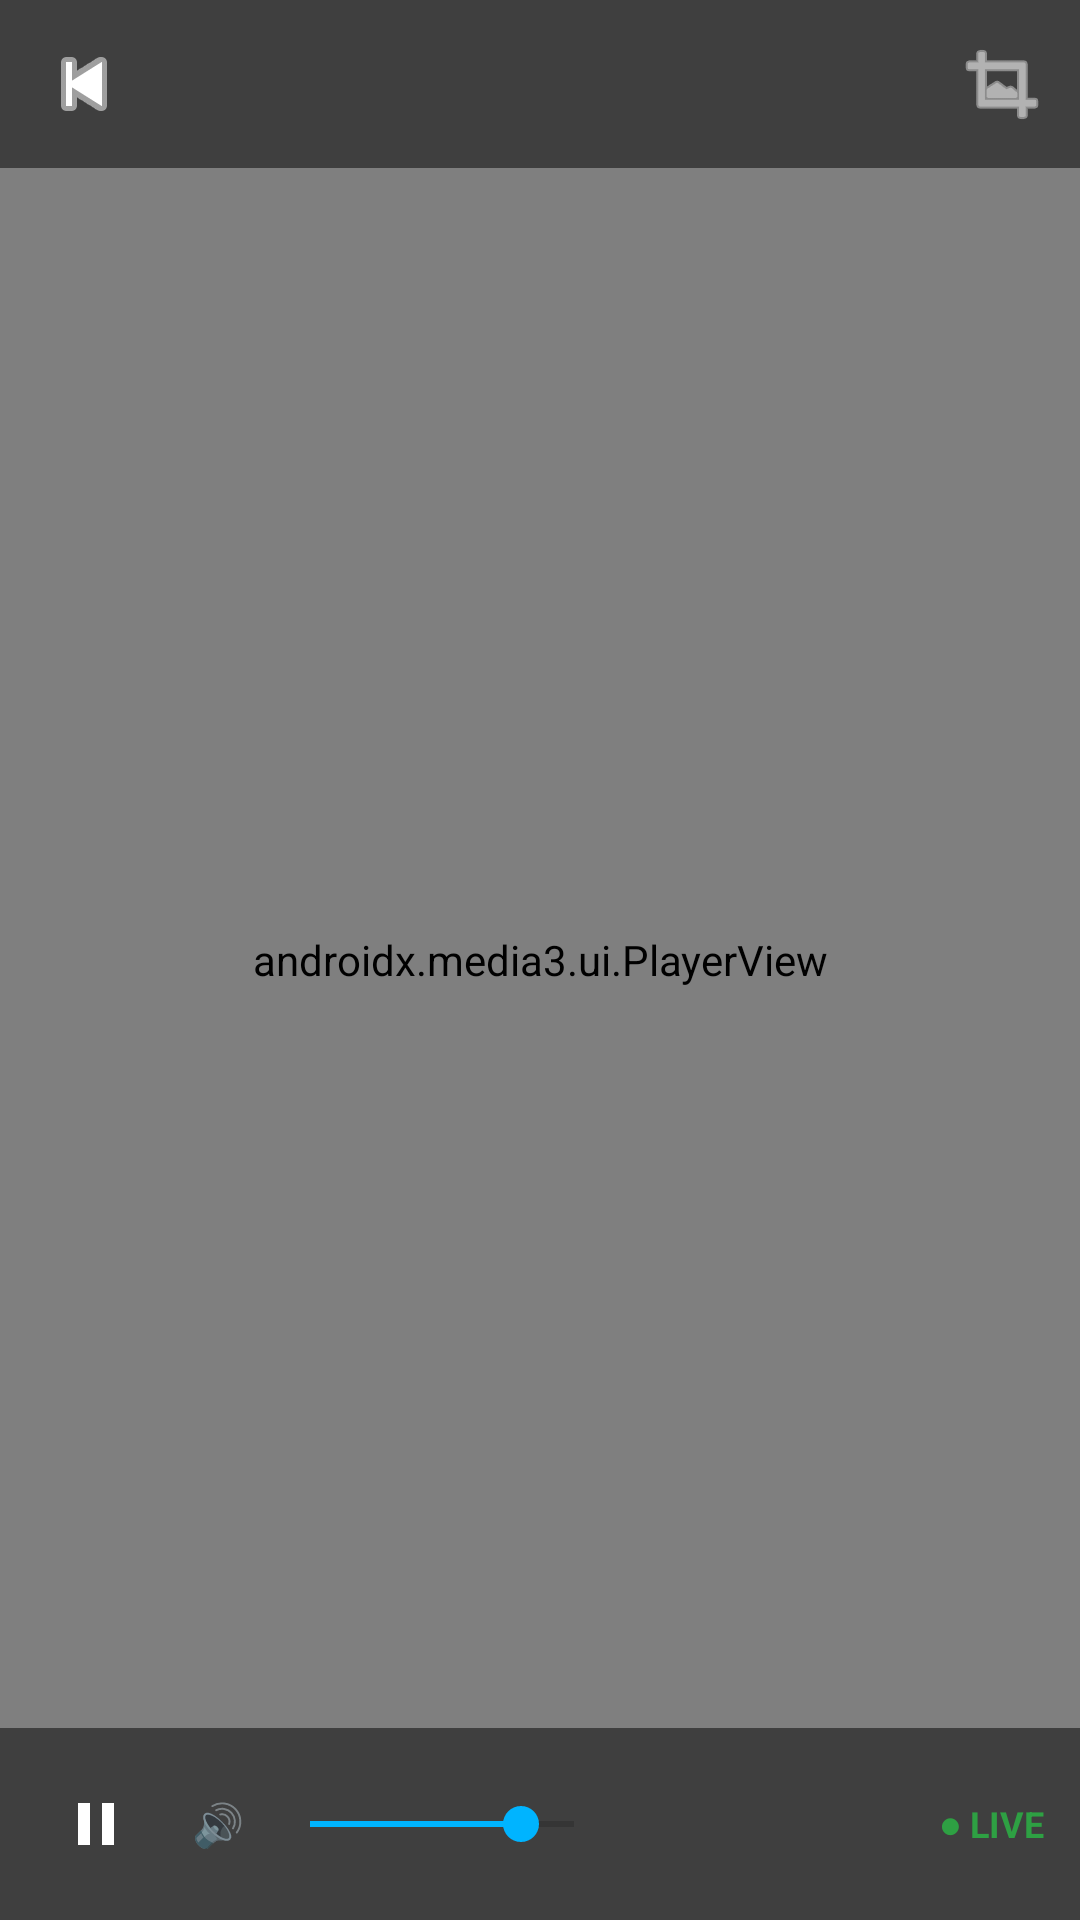

Icons on this 1080*1920 Android screen, each with the point to tap as (x,y):
crop: (1002,84)
Rudi: (84,84)
